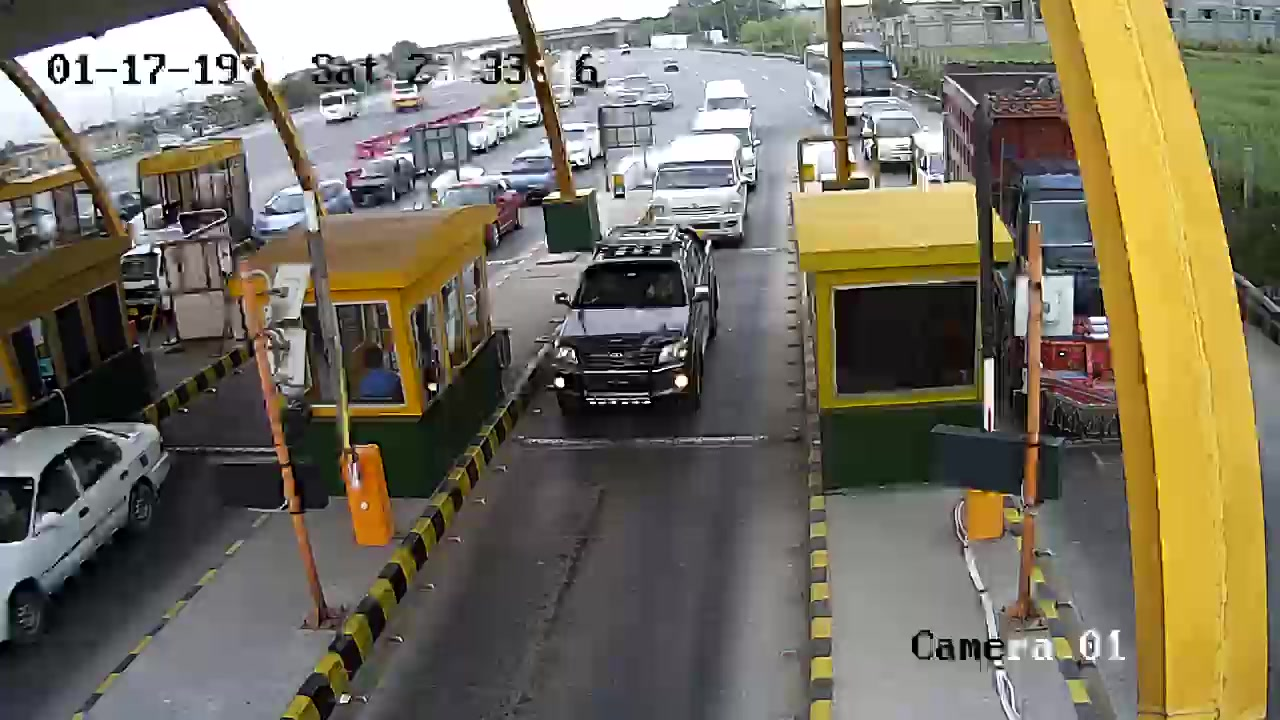F1: (546, 223, 729, 424)
